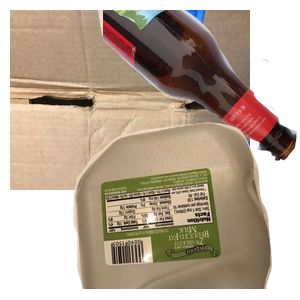cardboard: (10, 10, 250, 190)
glass: (103, 10, 300, 163)
plastic: (71, 120, 300, 300)
trash: (99, 155, 268, 300)
